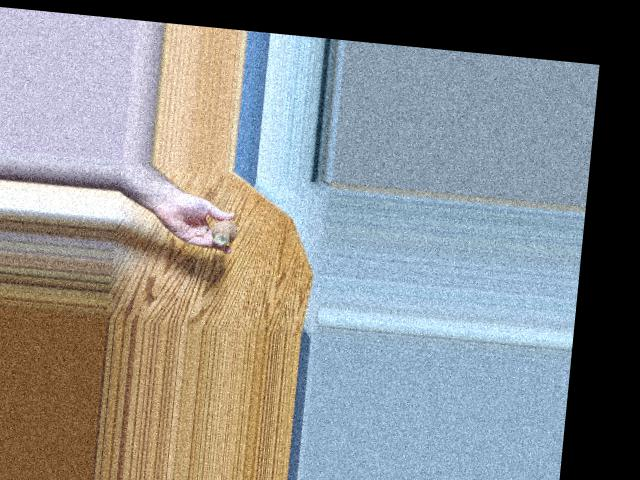sweet_potato: (210, 218, 240, 245)
